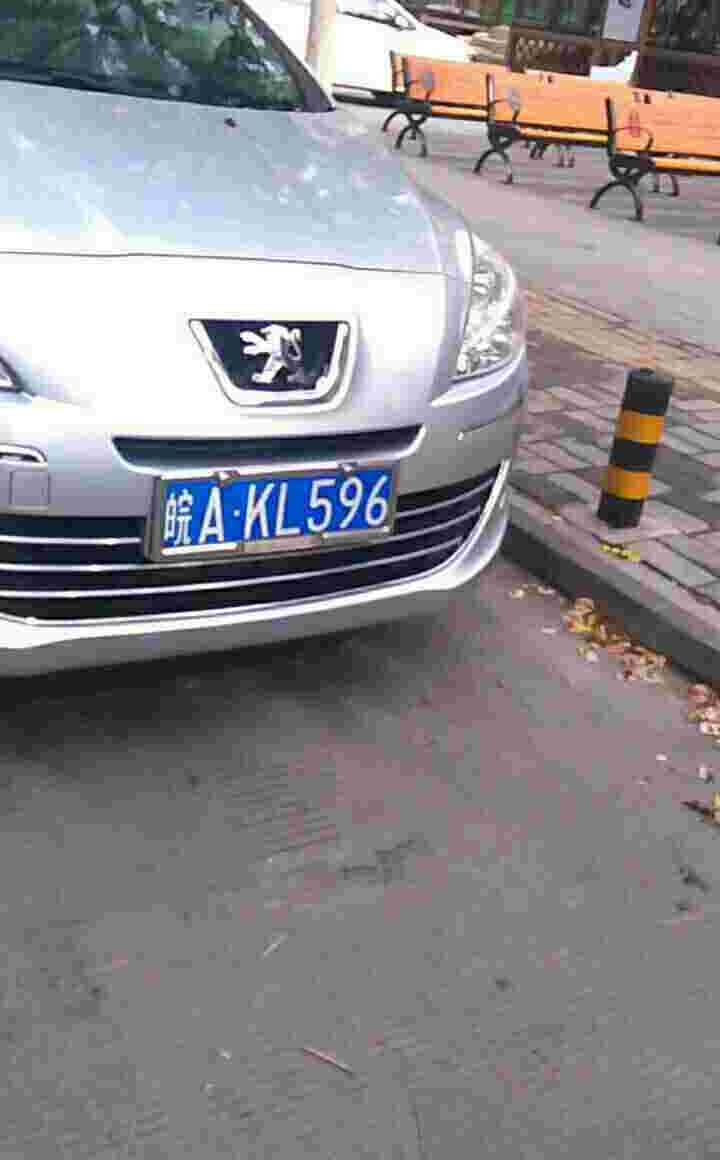license_plate: (168, 464, 399, 556)
